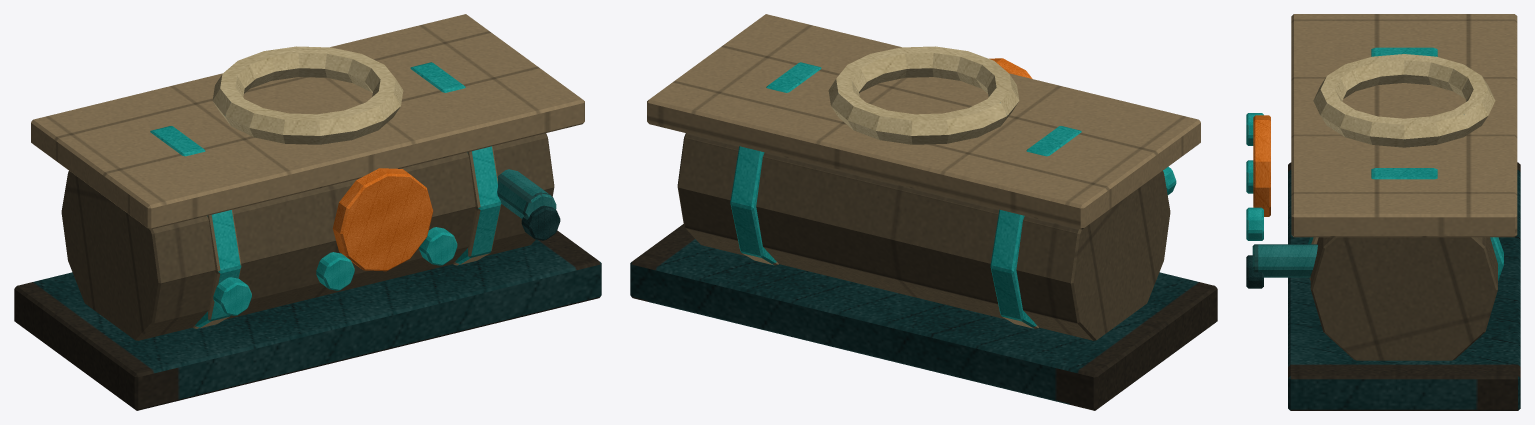
The model's file is water_trough.e6.glb.
The picture shows the model from 3 angles, left to right: view 1: azimuth 30°, elevation 25°; view 2: azimuth 150°, elevation 25°; view 3: azimuth 270°, elevation 25°; orthographic projection. The views are drawn at different scales.
Visible parts, largest first — view 1: AtomicCoolantCisternE6; view 2: AtomicCoolantCisternE6; view 3: AtomicCoolantCisternE6.
Boxes of the visible parts, <box> form: AtomicCoolantCisternE6: <box>14,14,601,410</box>; AtomicCoolantCisternE6: <box>630,14,1217,410</box>; AtomicCoolantCisternE6: <box>1246,14,1520,410</box>.
Bounding box in the file's own units: 1.58 × 0.7338 × 0.8495.
Materials: 1 (1 with a texture image).
